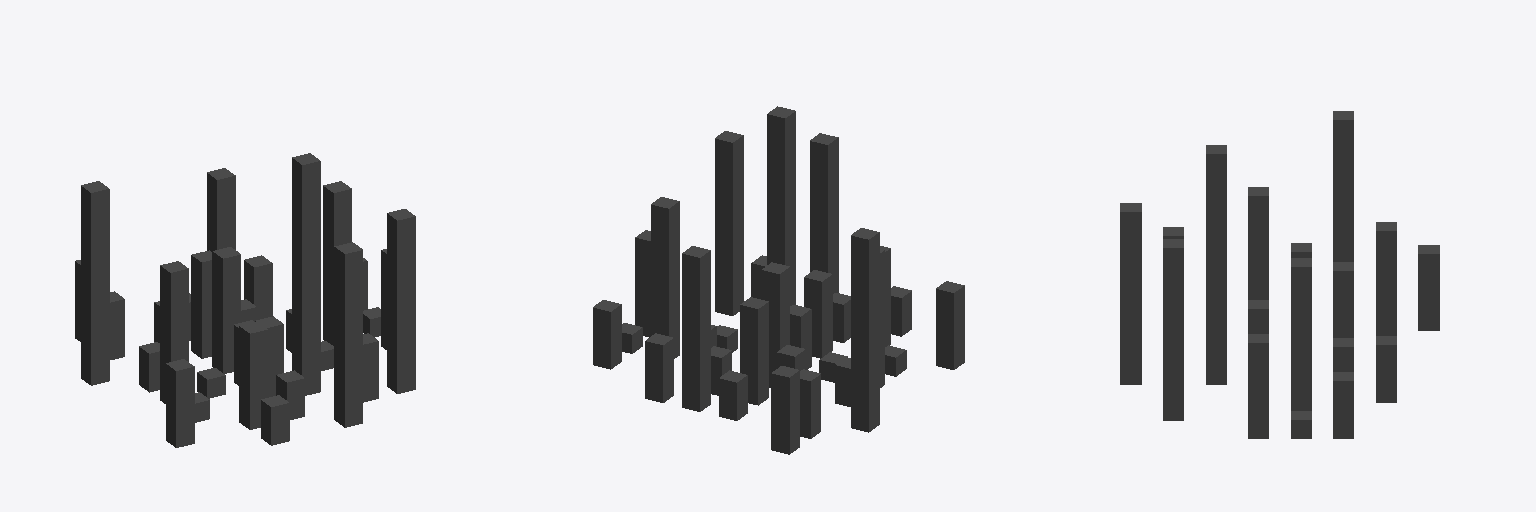
3 renders of one model, left to right at view 1: azimuth 30°, elevation 25°; view 2: azimuth 150°, elevation 25°; view 3: azimuth 270°, elevation 25°, orthographic.
Visible parts, largest first — view 1: object 1; view 2: object 1; view 3: object 1.
Boxes of the visible parts, x1=… form: object 1: x1=75, y1=153, x2=415, y2=447; object 1: x1=593, y1=106, x2=964, y2=454; object 1: x1=1120, y1=111, x2=1439, y2=438.
Bounding box in the file's own units: 1.5 × 1.2 × 1.5.
1 materials, 1 textured.